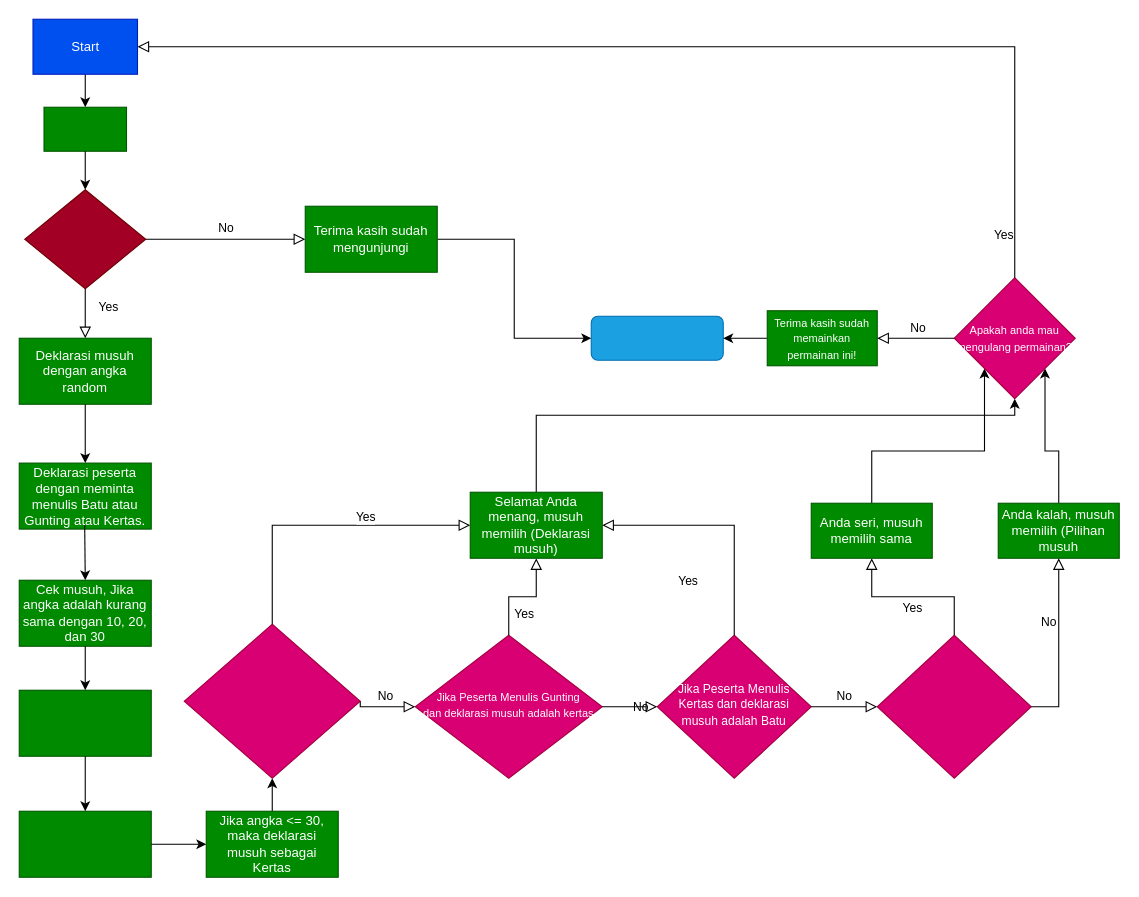
Image size: 1139x897. Some labels were removed from this diagram. The centre of each missing label's shape, as x and y in pixels:
"Apakah ingin bermain?" belongs at pixel 85 239.
"Deklarasi mulai" belongs at pixel 85 128.
"End" belongs at pixel 656 337.
"Jika angka <= 10, maka deklarasi musuh sebagai Gunting" belongs at pixel 84 722.
"Jika angka <= 20, maka deklarasi musuh sebagai Batu" belongs at pixel 84 843.
"Jika Peserta Menulis Batu dan deklarsi musuh adalah Gunting" belongs at pixel 271 700.
"Jika Peserta menulis sama dengan deklarasi musuh" belongs at pixel 953 706.
